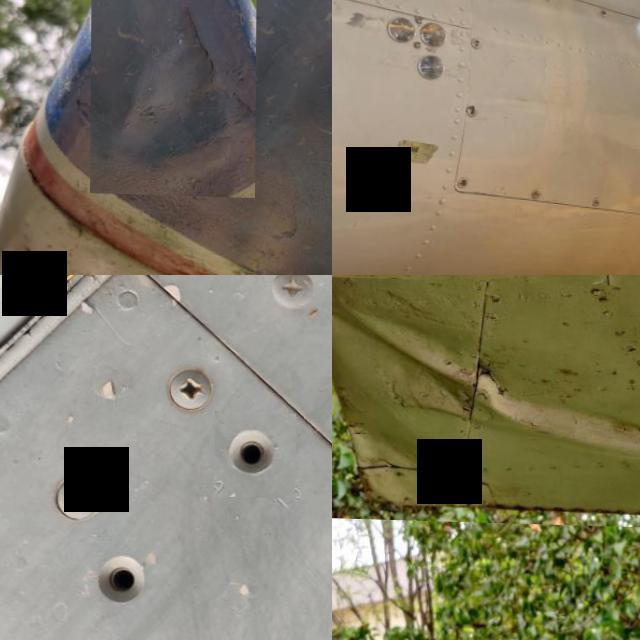Crack: (577, 363, 623, 409)
Dent: (332, 275, 640, 528), (90, 0, 256, 196), (611, 420, 640, 540)
Missing_Fastener: (67, 520, 176, 622), (215, 409, 296, 496)
